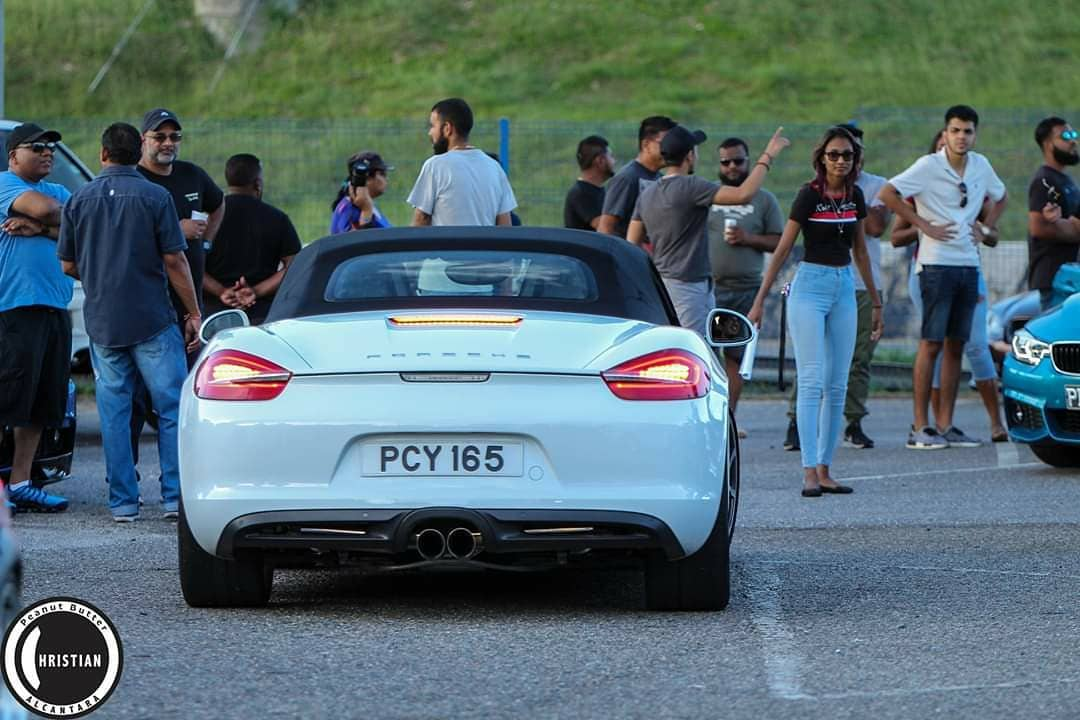License-Plate: (360, 443, 521, 475)
